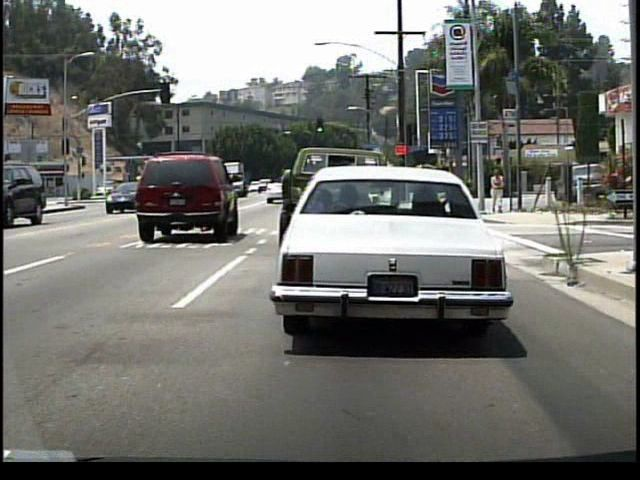person: (490, 167, 507, 214)
